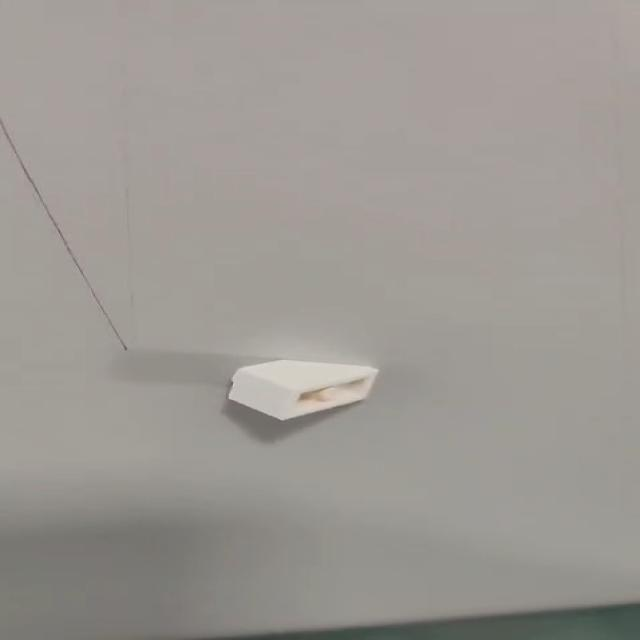P1x2x1: (232, 359, 385, 422)
